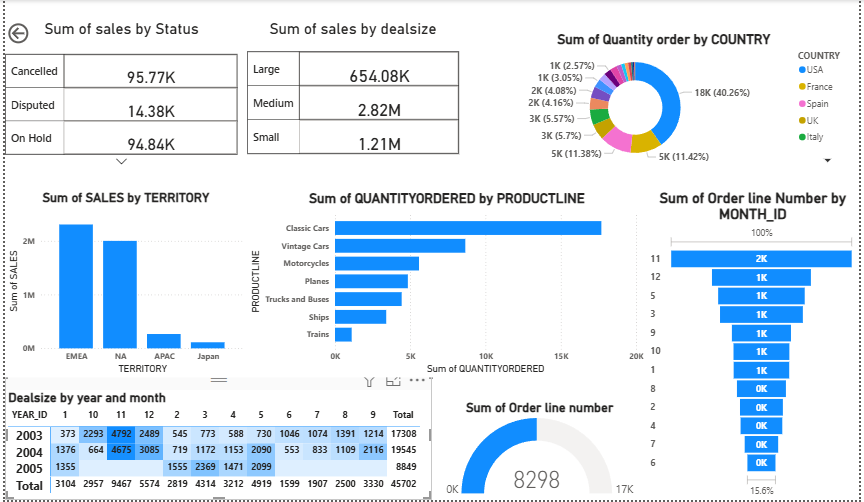

This screenshot's page, from the dashboard's own definition file:
{"tool":"powerbi","page":{"name":"Page 1","canvas":[1280,720],"ordinal":0},"visuals":[{"type":"cardVisual","title":"Sum of sales by Status","fields":{"Data":["Sum(sales_data_sample.SALES)"],"Rows":["sales_data_sample.STATUS"]},"box":[0,0,349.4,223.4],"z":0},{"type":"pivotTable","title":"Dealsize by year and month","fields":{"Rows":["sales_data_sample.YEAR_ID"],"Columns":["sales_data_sample.MONTH_ID"],"Values":["Sum(sales_data_sample.QUANTITYORDERED)"]},"box":[0,555,640.5,165],"z":1},{"type":"actionButton","box":[0,0,100,40],"z":2},{"type":"clusteredColumnChart","fields":{"Category":["sales_data_sample.TERRITORY"],"Y":["Sum(sales_data_sample.SALES)"]},"box":[0,255.3,362.8,280.5],"z":3},{"type":"cardVisual","title":"Sum of sales by dealsize","fields":{"Rows":["sales_data_sample.DEALSIZE"],"Data":["Sum(sales_data_sample.SALES)"]},"box":[363,0,318,223.5],"z":4},{"type":"clusteredBarChart","fields":{"Category":["sales_data_sample.PRODUCTLINE"],"Y":["Sum(sales_data_sample.QUANTITYORDERED)"]},"box":[362.8,255.3,599.7,280.5],"z":5},{"type":"donutChart","title":"Sum of Quantity order by COUNTRY","fields":{"Category":["sales_data_sample.COUNTRY"],"Y":["Sum(sales_data_sample.QUANTITYORDERED)"]},"box":[695.4,16.8,584.6,206.6],"z":6},{"type":"funnel","title":"Sum of Order line Number by MONTH_ID","fields":{"Y":["Sum(sales_data_sample.ORDERLINENUMBER)"],"Category":["sales_data_sample.MONTH_ID"]},"box":[962.5,255.3,317.5,465.3],"z":7},{"type":"gauge","title":"Sum of Order line number","fields":{"Y":["Sum(sales_data_sample.ORDERLINENUMBER)"]},"box":[640,570,323,150],"z":8}]}

Visuals, with their boxes on the page's 1280x720 design canvas (x1, y1, x2, y2). These are canvas units, not pixel positions in the 864x502 screenshot, which may show the page scaled, cropped or inside an application window:
"Sum of sales by Status" cardVisual: bbox=[0, 0, 349, 223]
"Dealsize by year and month" pivotTable: bbox=[0, 555, 640, 720]
actionButton: bbox=[0, 0, 100, 40]
clusteredColumnChart - sales_data_sample.TERRITORY x Sum(sales_data_sample.SALES): bbox=[0, 255, 363, 536]
"Sum of sales by dealsize" cardVisual: bbox=[363, 0, 681, 224]
clusteredBarChart - sales_data_sample.PRODUCTLINE x Sum(sales_data_sample.QUANTITYORDERED): bbox=[363, 255, 962, 536]
"Sum of Quantity order by COUNTRY" donutChart: bbox=[695, 17, 1280, 223]
"Sum of Order line Number by MONTH_ID" funnel: bbox=[962, 255, 1280, 721]
"Sum of Order line number" gauge: bbox=[640, 570, 963, 720]
